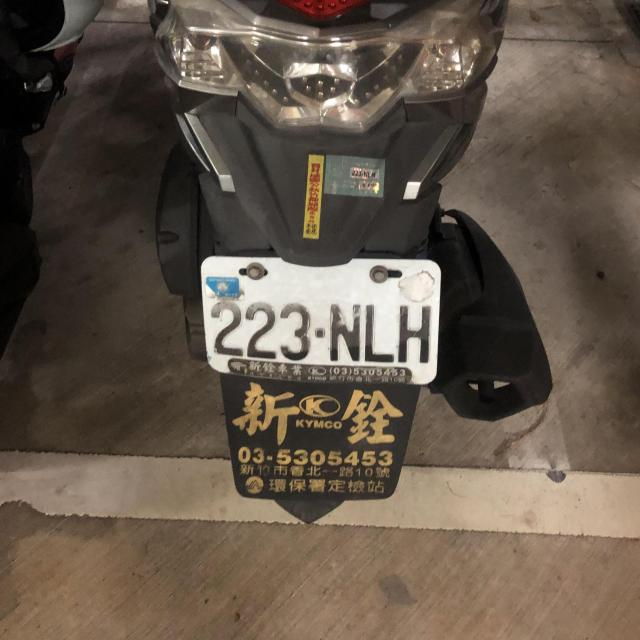W: (195, 247, 444, 389)
